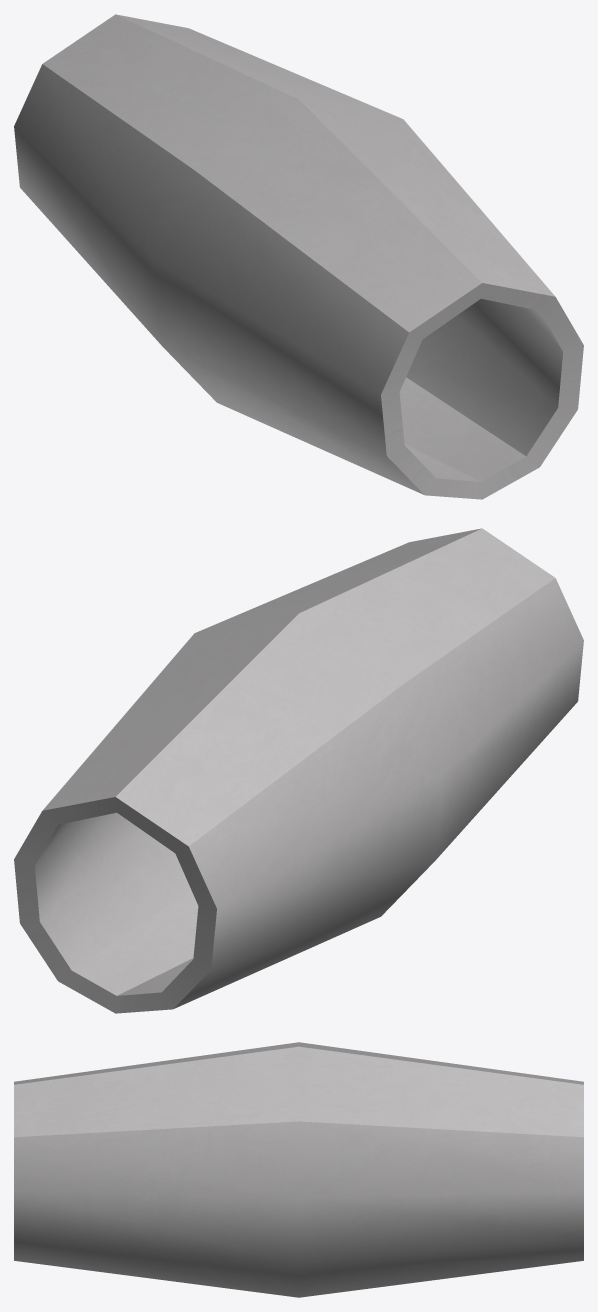
The model's file is hook.fbx.
3 renders of one model, top to bottom at view 1: azimuth 30°, elevation 25°; view 2: azimuth 150°, elevation 25°; view 3: azimuth 270°, elevation 25°, orthographic. The views are drawn at different scales.
Parts seen in each view (by area): view 1: Cylinder.016; view 2: Cylinder.016; view 3: Cylinder.016.
Boxes of the visible parts, <box> form: Cylinder.016: <box>14,14,583,499</box>; Cylinder.016: <box>14,528,583,1013</box>; Cylinder.016: <box>14,1042,583,1297</box>.
Size of the model in its own units: 74.35 by 75.8 by 163.
Materials: 1 (1 with a texture image).
